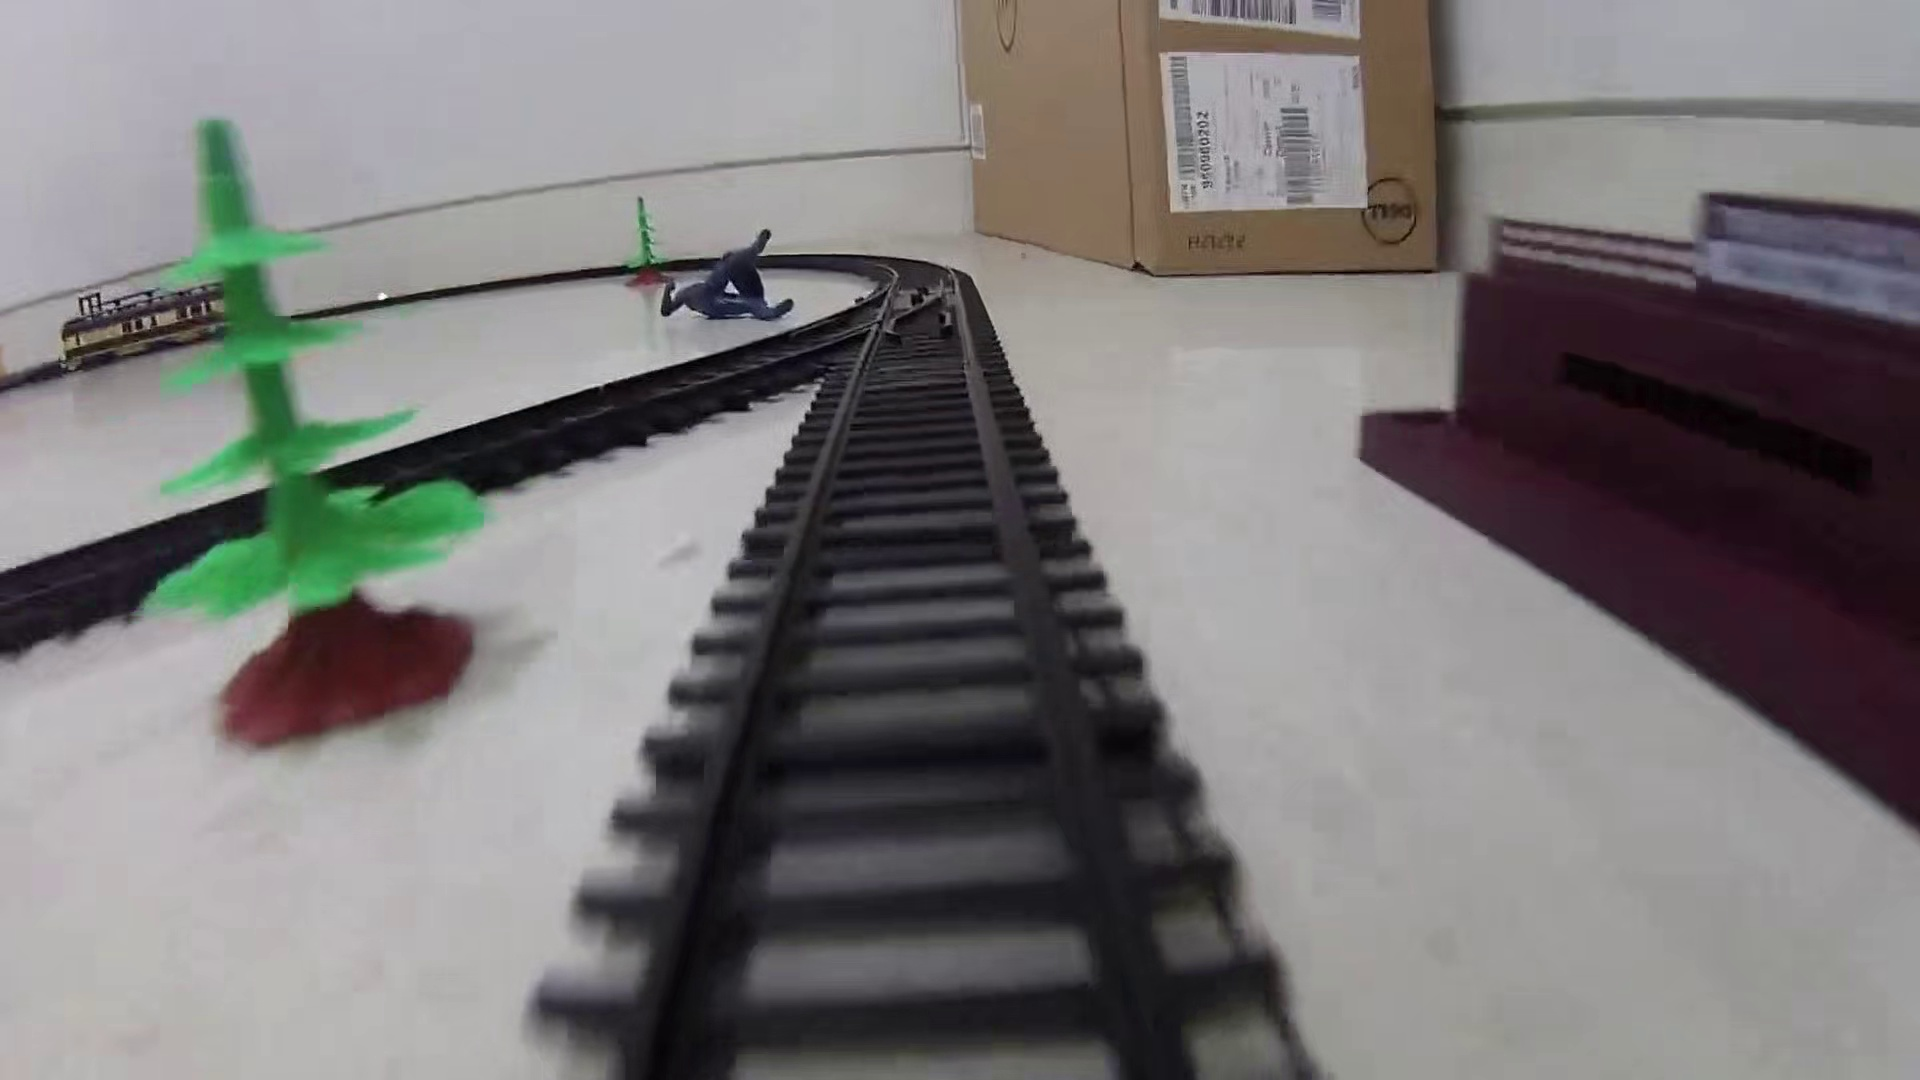people: (657, 227, 796, 322)
tree: (138, 112, 488, 751), (623, 194, 675, 288)
